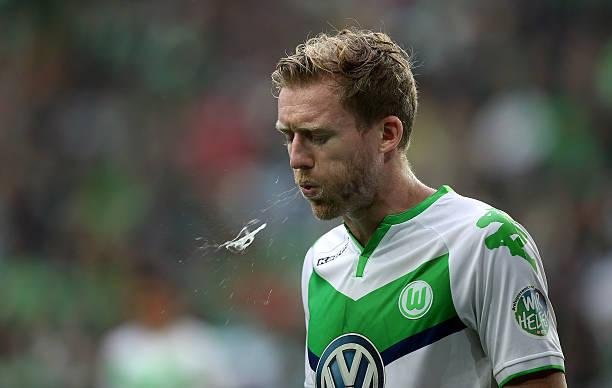Spitting: (226, 27, 436, 244)
